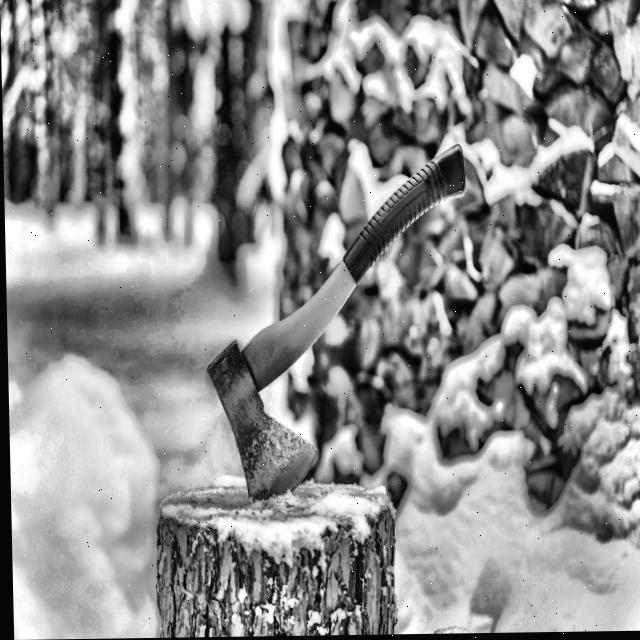kapak: (194, 132, 478, 526)
